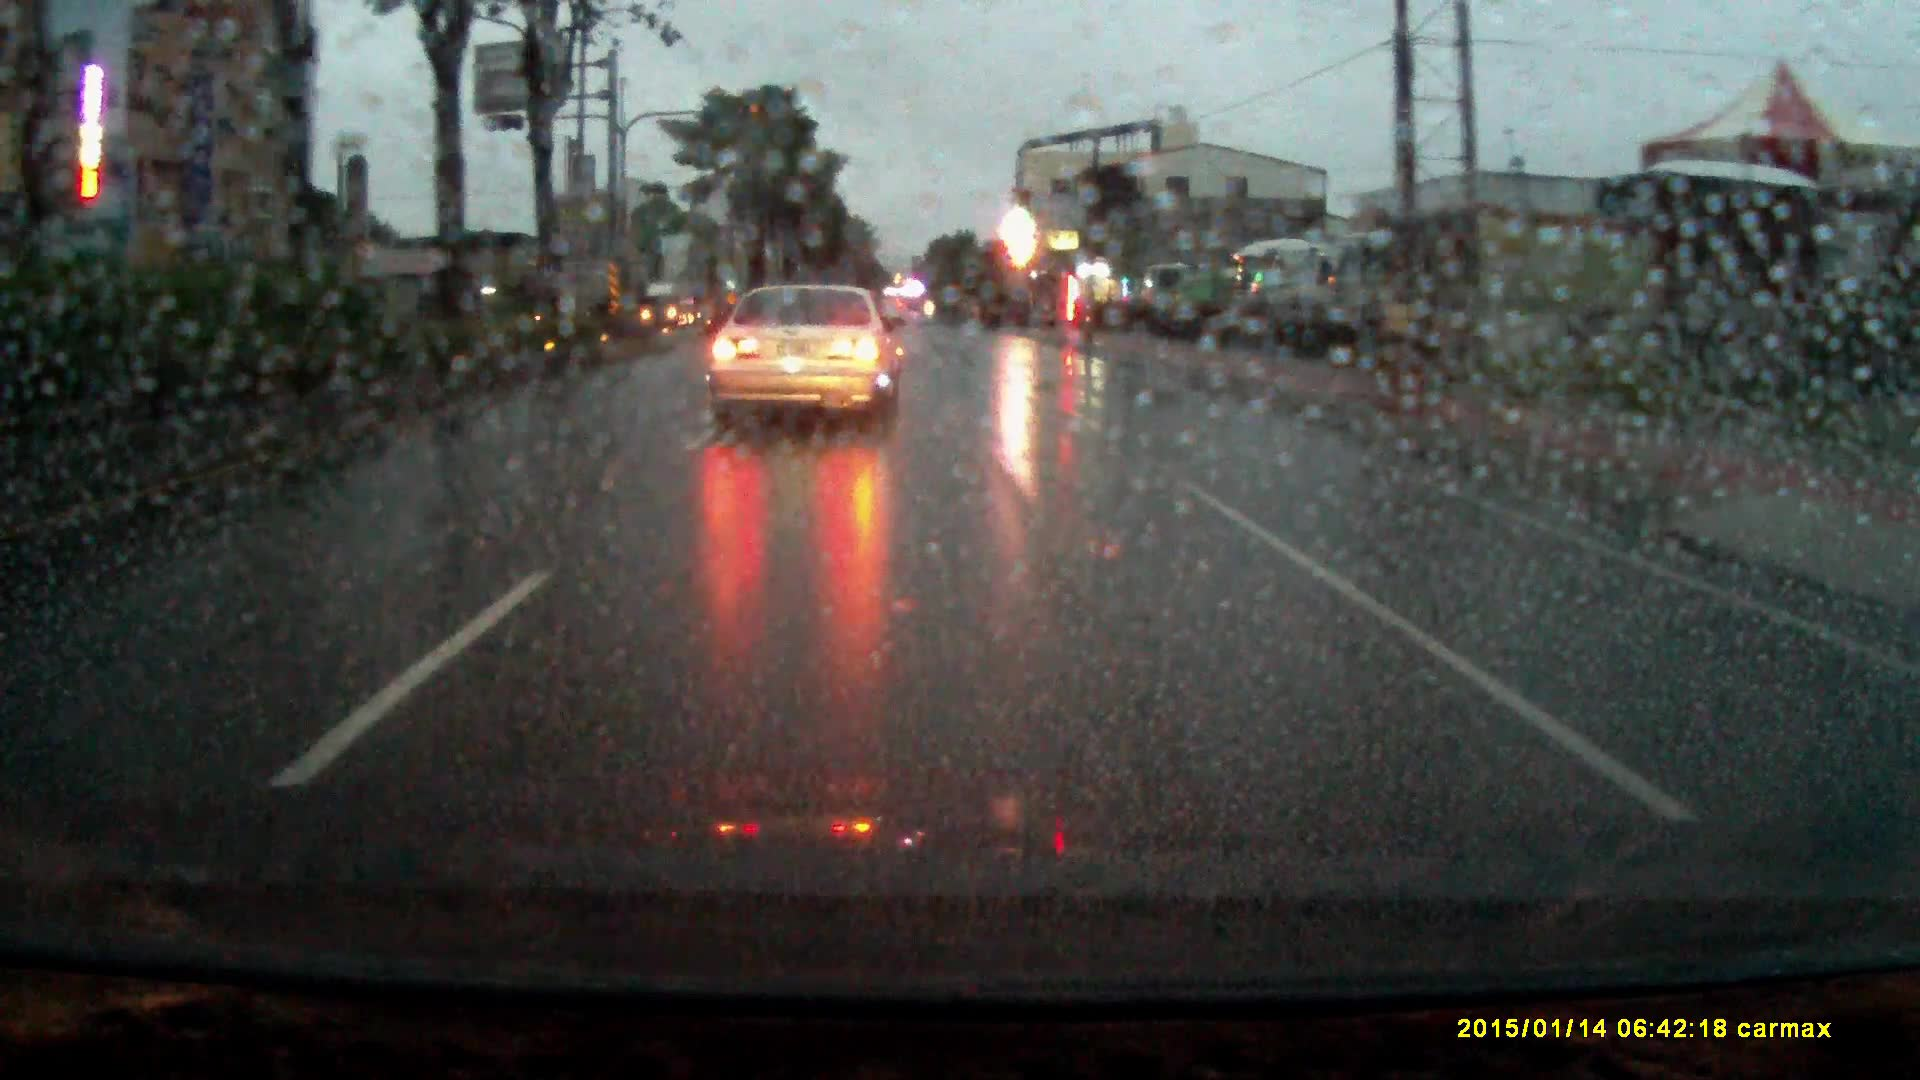vehicle: (707, 277, 909, 444), (1329, 232, 1429, 348), (1240, 243, 1333, 345), (1163, 266, 1233, 323), (1139, 265, 1196, 334), (646, 284, 695, 331)
